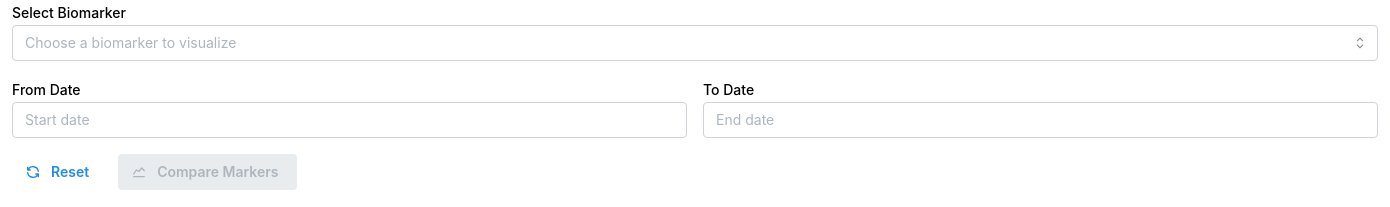
Test: TrendChartControls › Biomarker selection › shows singular form for 1 value
Step 1. Click the field with placeholder "Choose a biomarker to visualize" → {"x": 695, "y": 43}, box 12,25 -> 1378,61
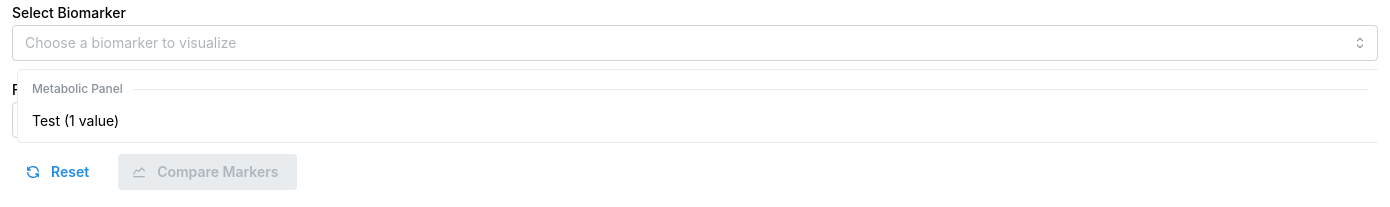
Now the text "Test (1 value)" is shown, box 32,110 -> 119,132
